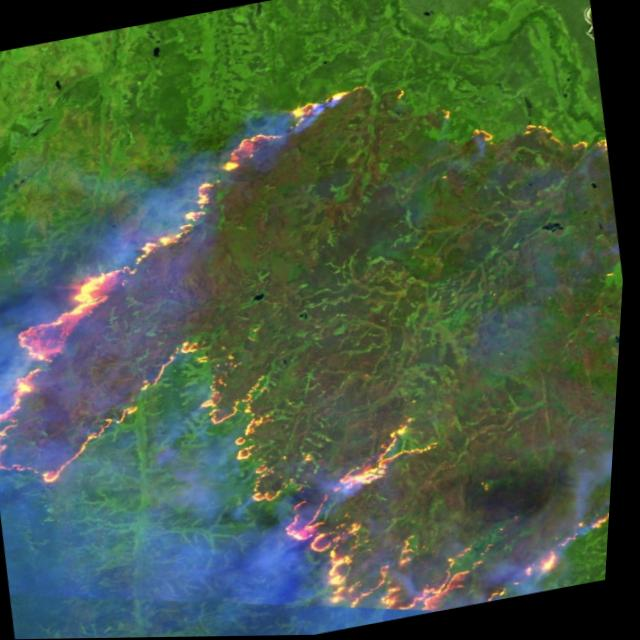fire: (0, 33, 638, 640)
